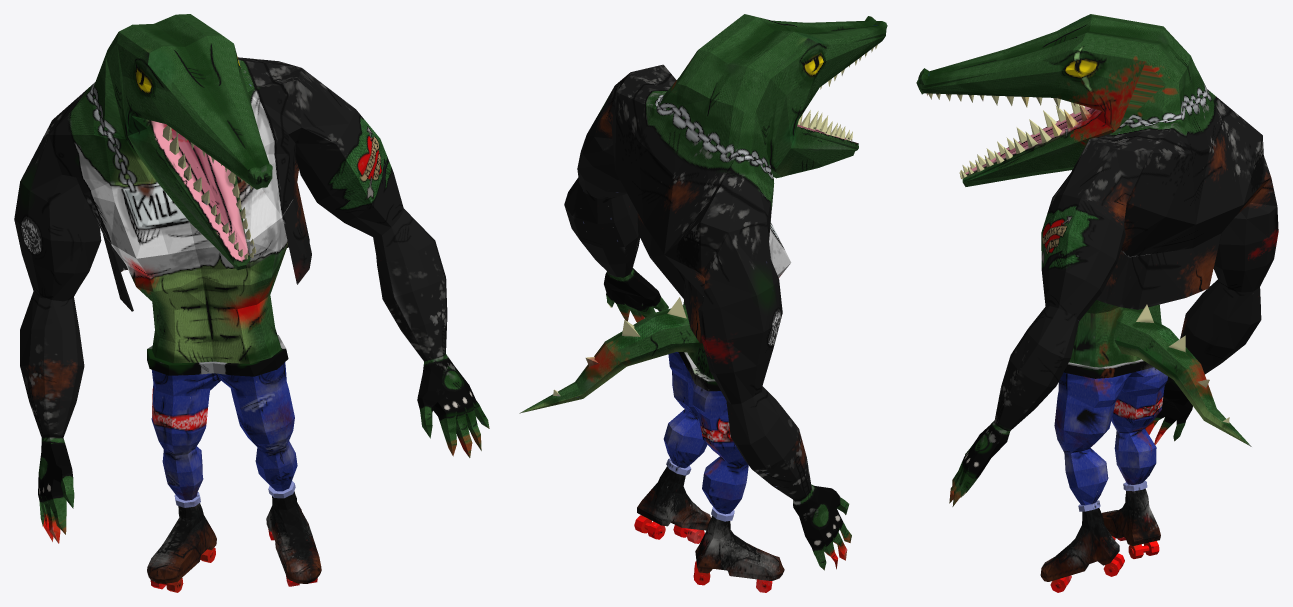
File: cocodrilaBonesSelect_000009.obj
The picture shows the model from 3 angles, left to right: view 1: azimuth 30°, elevation 25°; view 2: azimuth 150°, elevation 25°; view 3: azimuth 270°, elevation 25°; orthographic projection. The views are drawn at different scales.
Visible parts, largest first — view 1: Crocodile.002_Cylinder.002; view 2: Crocodile.002_Cylinder.002; view 3: Crocodile.002_Cylinder.002.
Part boxes in pixels (x1,y1,x2,y2): Crocodile.002_Cylinder.002: (14, 14, 489, 592); Crocodile.002_Cylinder.002: (519, 14, 887, 592); Crocodile.002_Cylinder.002: (916, 14, 1278, 592).
Size of the model in its own units: 4.3 by 6.78 by 4.29.
